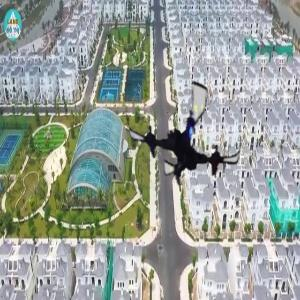drone: (124, 72, 247, 195)
